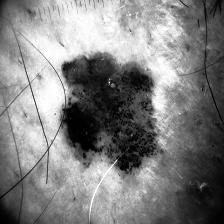Benign Marking or Mole: (71, 62, 158, 164)
